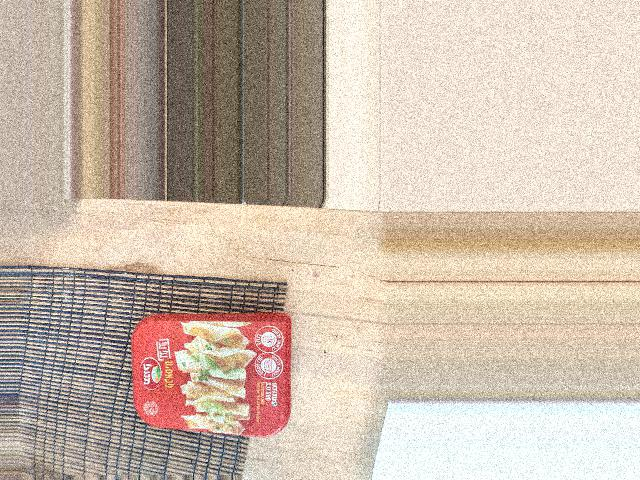cheese: (65, 303, 189, 480)
